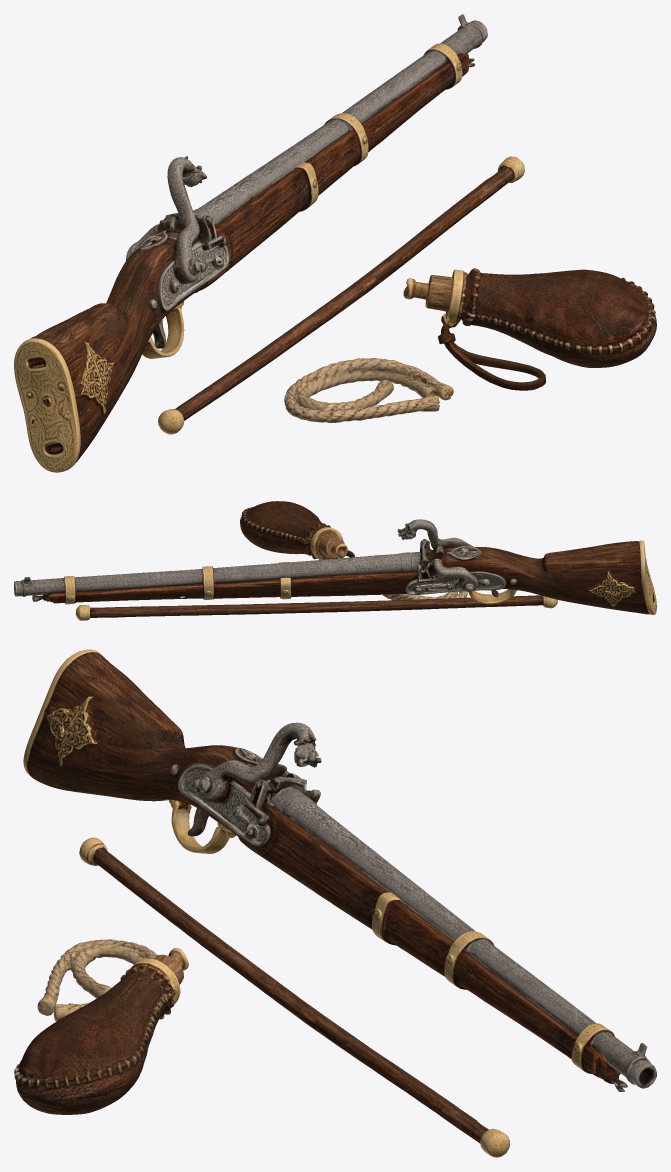
The model's file is Uzun Osmanlı fitilli tüfeği.glb.
The picture shows the model from 3 angles, top to bottom: view 1: azimuth 30°, elevation 25°; view 2: azimuth 150°, elevation 25°; view 3: azimuth 270°, elevation 25°; orthographic projection. The views are drawn at different scales.
Parts seen in each view (by area): view 1: tripo_node_ad363a33-e6cf-4064-9523-8de750ca40cd; view 2: tripo_node_ad363a33-e6cf-4064-9523-8de750ca40cd; view 3: tripo_node_ad363a33-e6cf-4064-9523-8de750ca40cd.
Boxes of the visible parts, x1,y1,x2,y2 form: tripo_node_ad363a33-e6cf-4064-9523-8de750ca40cd: (14,14,656,472); tripo_node_ad363a33-e6cf-4064-9523-8de750ca40cd: (14,501,656,620); tripo_node_ad363a33-e6cf-4064-9523-8de750ca40cd: (14,649,656,1157).
Bounding box in the file's own units: 0.9806 × 0.2614 × 0.7003.
Materials: 1 (1 with a texture image).
